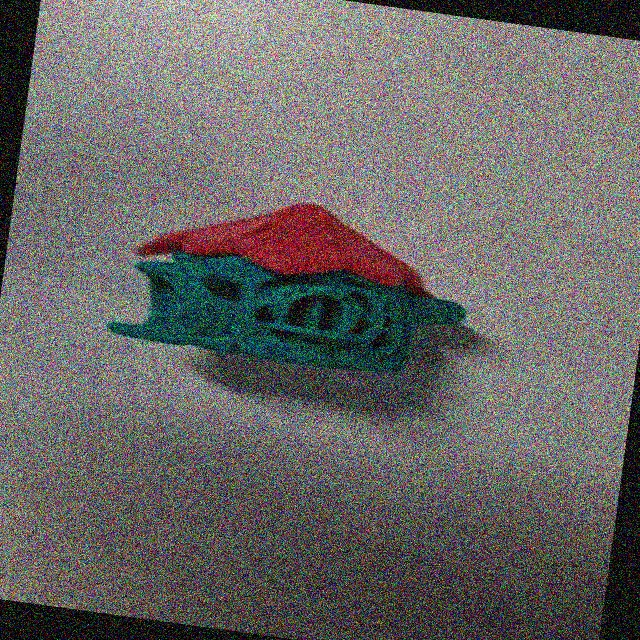House: (68, 159, 536, 435)
